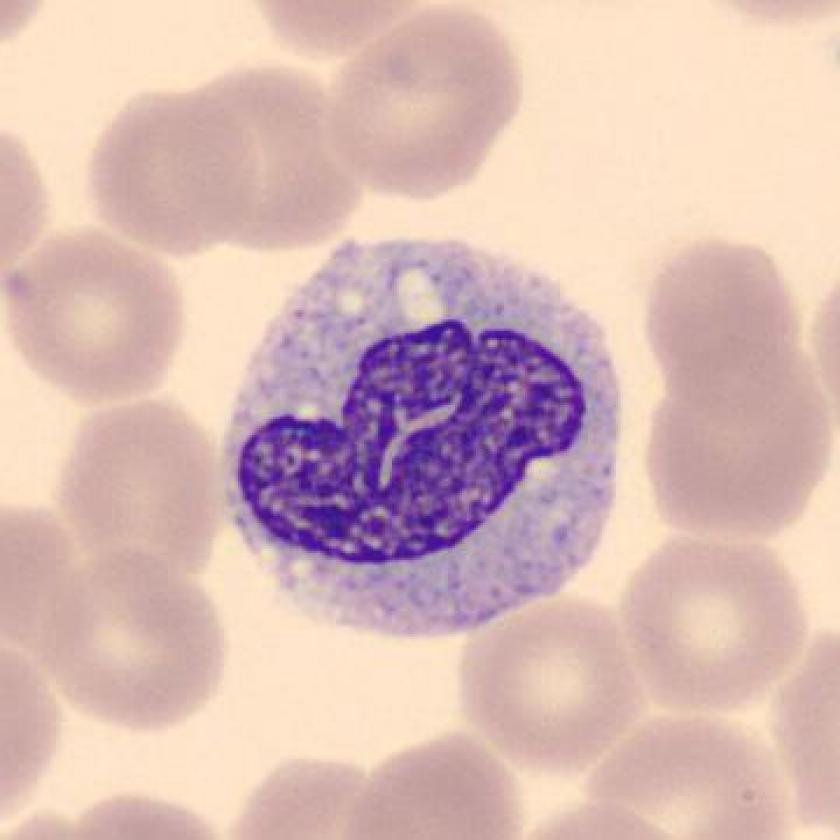monocyte: (199, 218, 650, 663)
